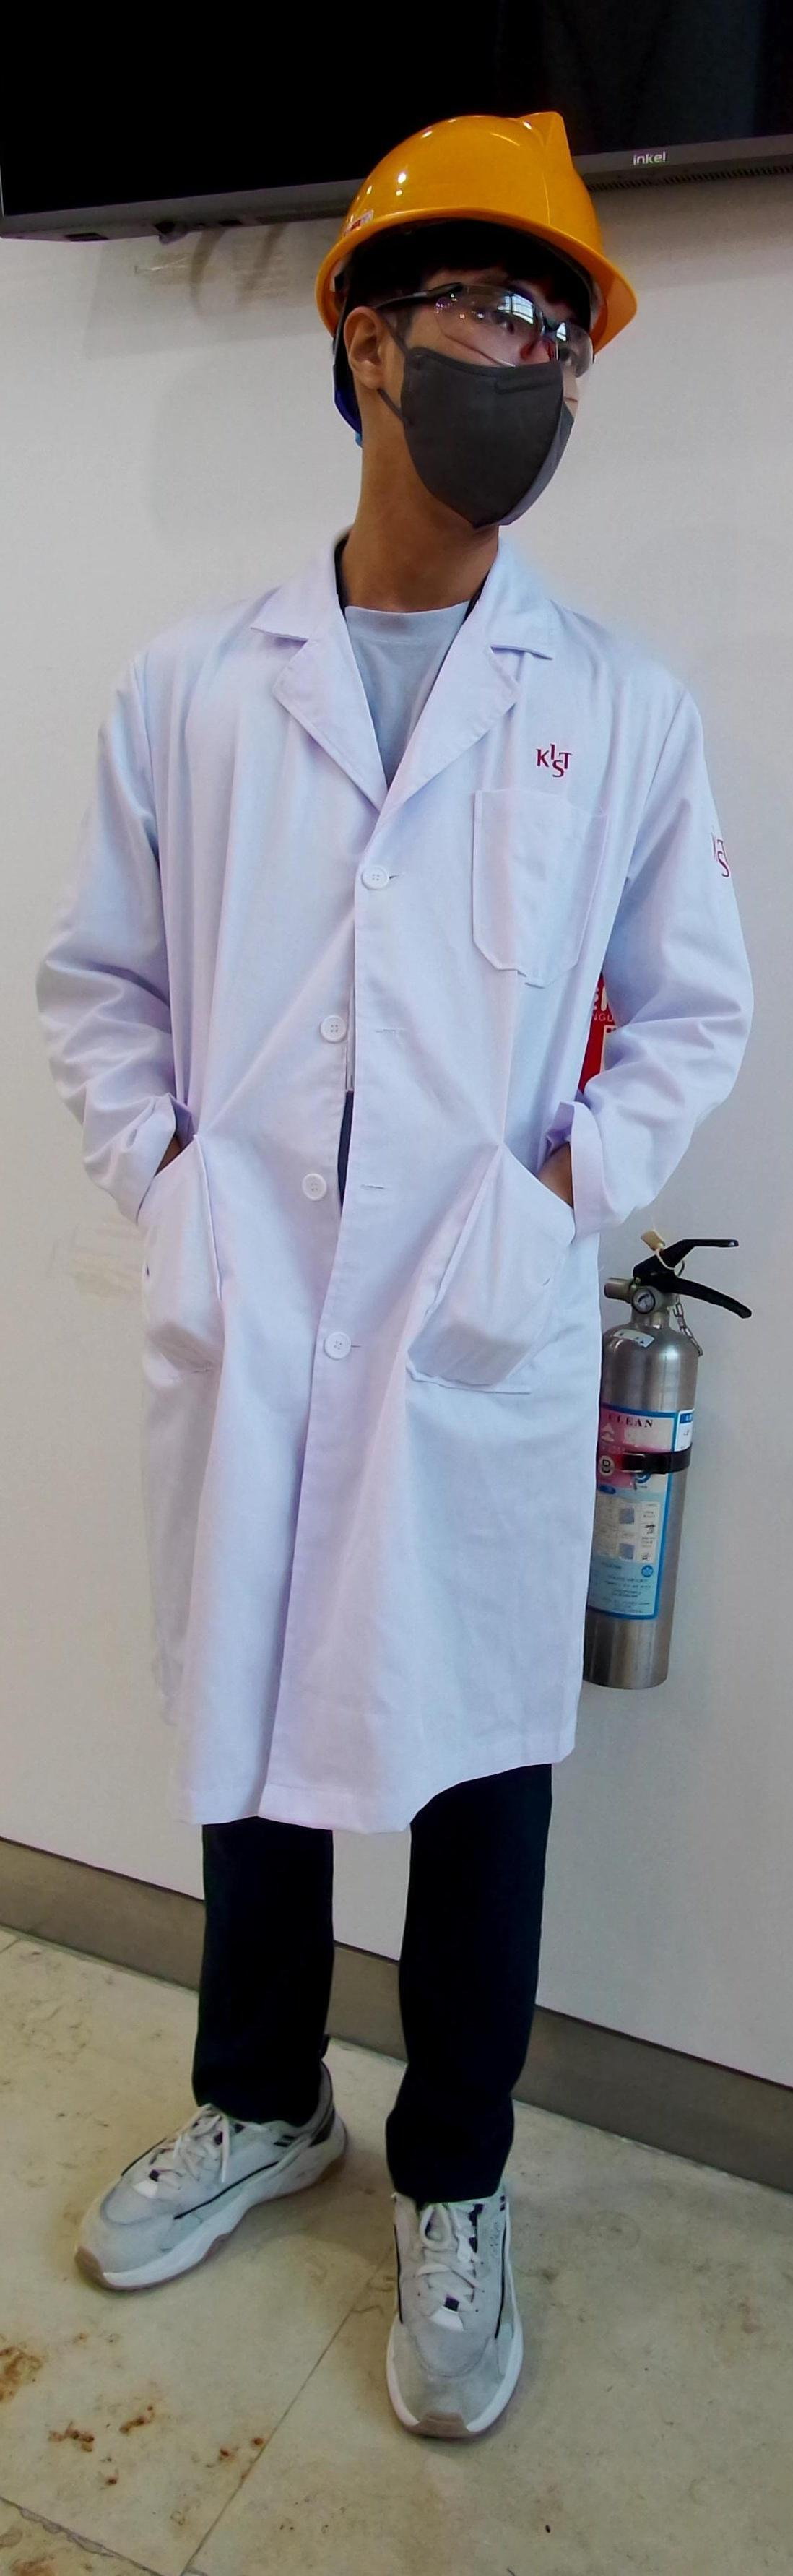lab_coat: (23, 586, 729, 1810)
